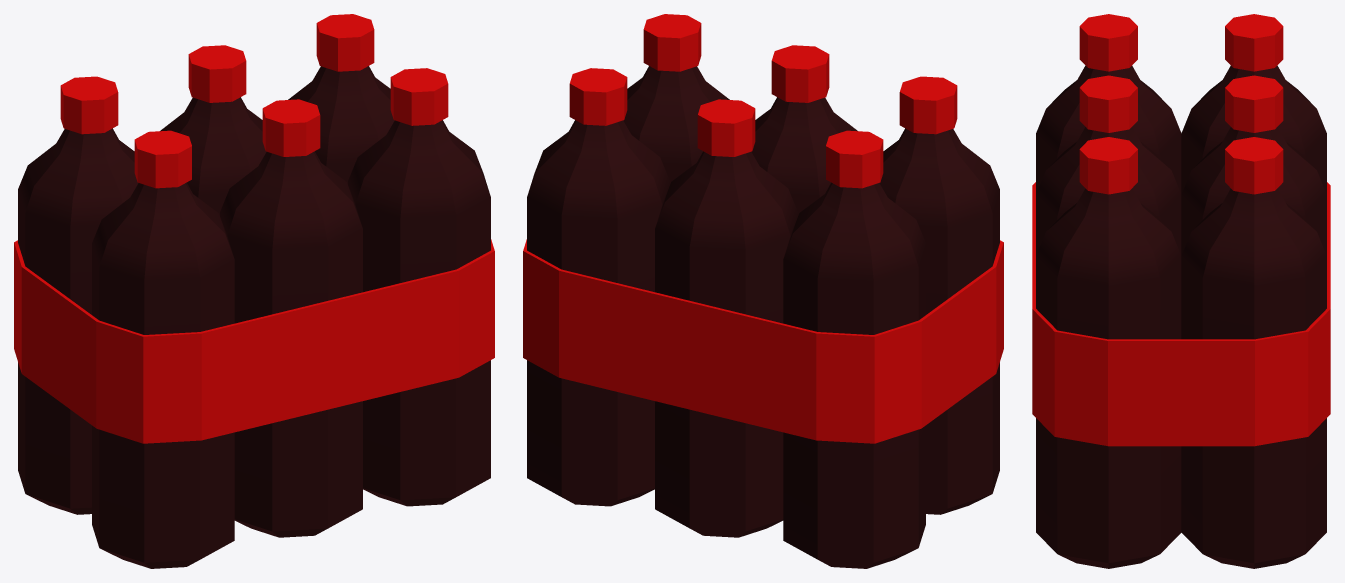
File: Coke.fbx
3 renders of one model, left to right at view 1: azimuth 30°, elevation 25°; view 2: azimuth 150°, elevation 25°; view 3: azimuth 270°, elevation 25°, orthographic.
Parts seen in each view (by area): view 1: Coke; view 2: Coke; view 3: Coke.
Part boxes in pixels (x1,y1,x2,y2): Coke: (14, 14, 494, 568); Coke: (523, 14, 1003, 568); Coke: (1032, 14, 1330, 568).
Size of the model in its own units: 10.89 by 10.84 by 7.32.
